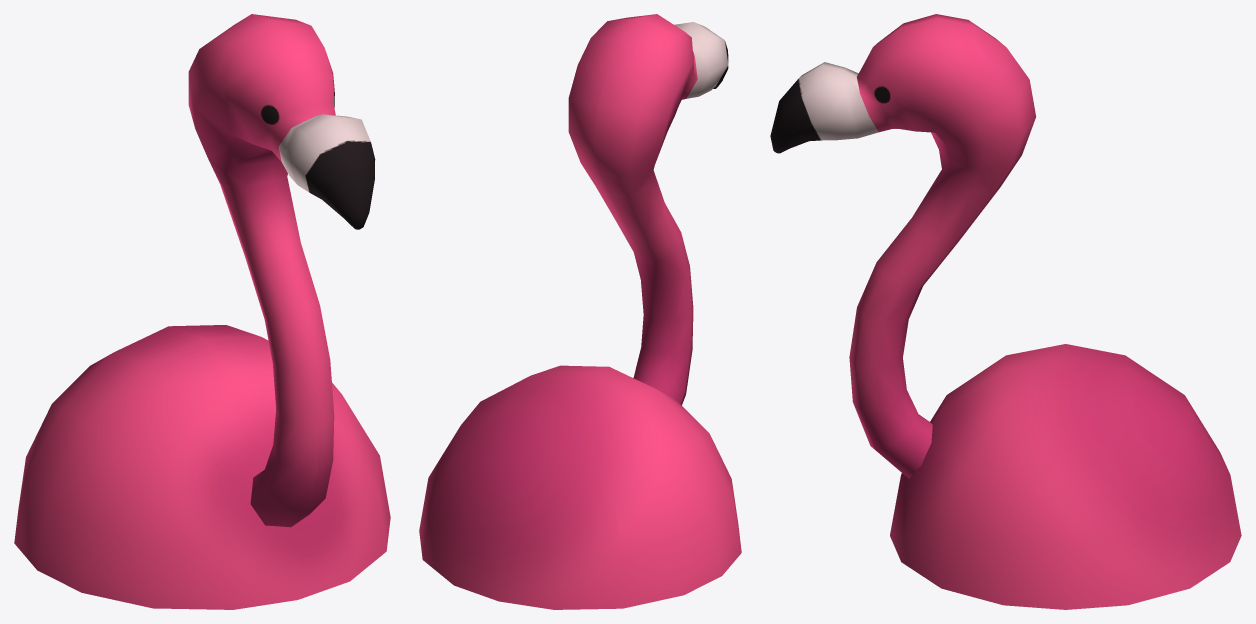
File: m_FlamingoHat01.obj
3 views of the same model, side by side, from view 1: azimuth 30°, elevation 25°; view 2: azimuth 150°, elevation 25°; view 3: azimuth 270°, elevation 25° (orthographic). The views are drawn at different scales.
Parts seen in each view (by area): view 1: m_FlamingoHat01_mi_FlamingoHat; view 2: m_FlamingoHat01_mi_FlamingoHat; view 3: m_FlamingoHat01_mi_FlamingoHat.
Boxes of the visible parts, x1,y1,x2,y2 form: m_FlamingoHat01_mi_FlamingoHat: (14,14,390,609); m_FlamingoHat01_mi_FlamingoHat: (419,14,741,609); m_FlamingoHat01_mi_FlamingoHat: (770,14,1241,609).
Size of the model in its own units: 0.619 by 1.01 by 0.8293.
1 material, 1 textured.
